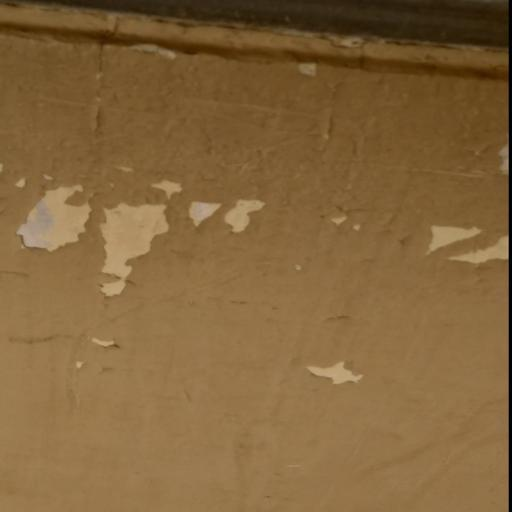peeling: (0, 156, 281, 308), (400, 191, 512, 284), (296, 341, 372, 393)
